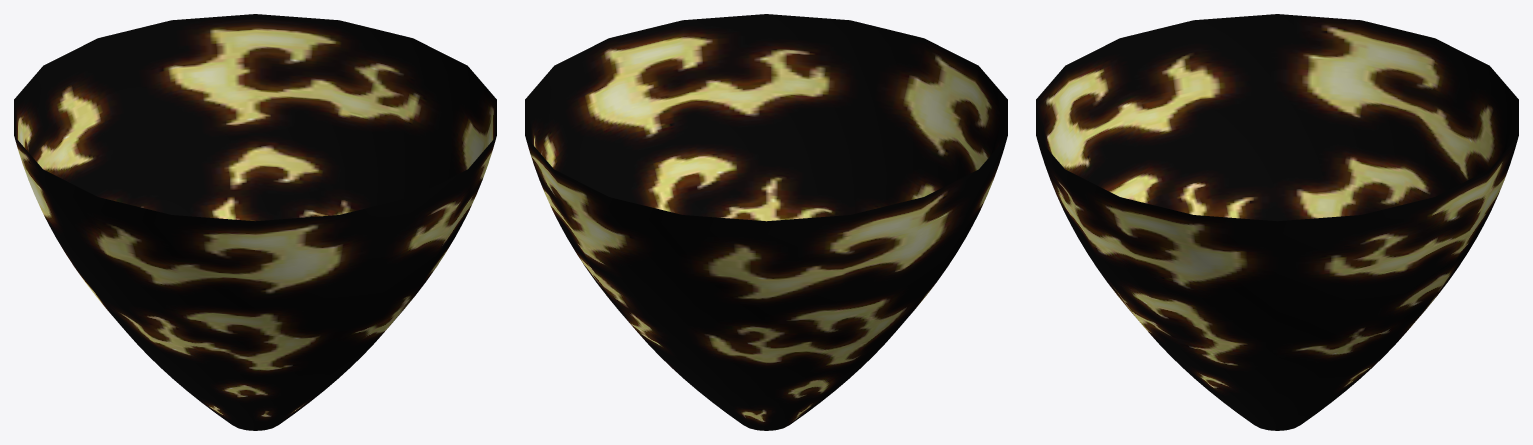
Rendered from 0396_qilang_M_02.glb.
3 renders of one model, left to right at view 1: azimuth 30°, elevation 25°; view 2: azimuth 150°, elevation 25°; view 3: azimuth 270°, elevation 25°, orthographic.
Size of the model in its own units: 2.2 by 1.5 by 2.17.
1 material, 1 textured.
